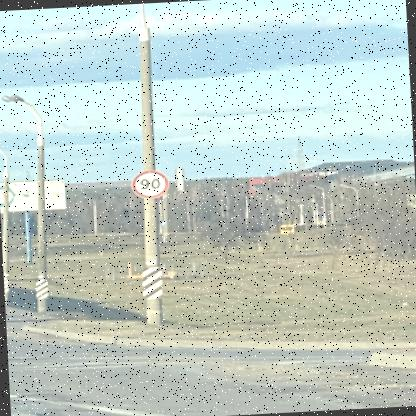speedlimit: (128, 167, 170, 198)
